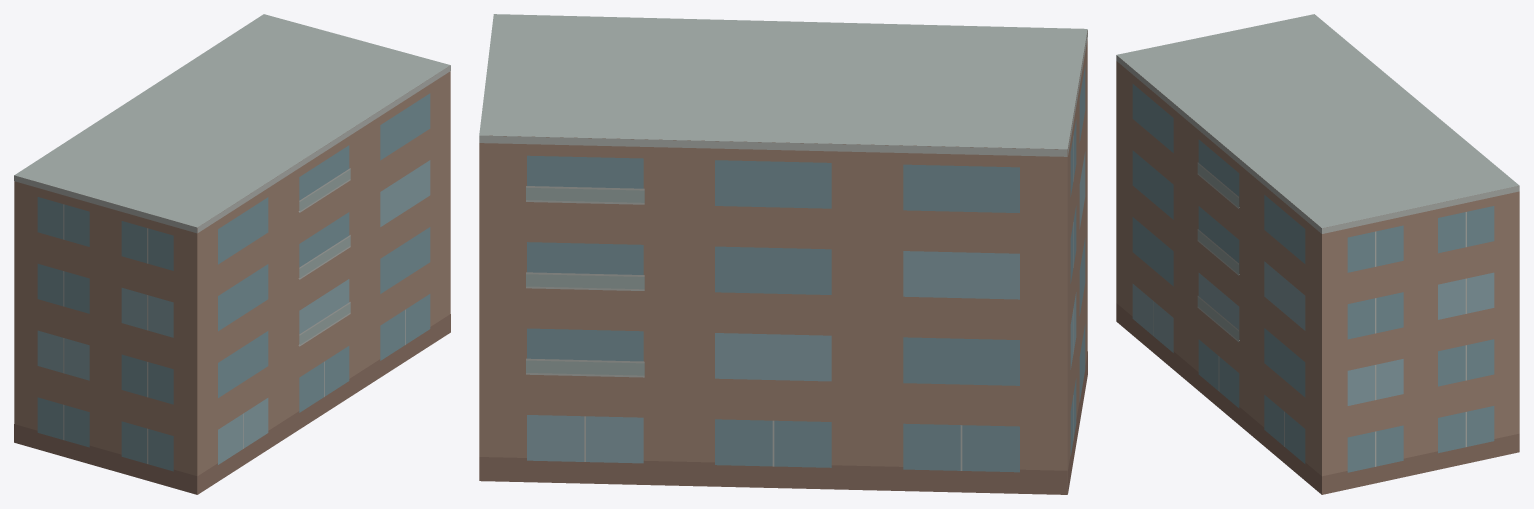
Rendered from survey-upis-32907342.glb.
3 renders of one model, left to right at view 1: azimuth 30°, elevation 25°; view 2: azimuth 150°, elevation 25°; view 3: azimuth 270°, elevation 25°, orthographic. The views are drawn at different scales.
Parts seen in each view (by area): view 1: survey-upis-32907342.tmp; view 2: survey-upis-32907342.tmp; view 3: survey-upis-32907342.tmp.
Boxes of the visible parts, x1=… form: survey-upis-32907342.tmp: x1=14, y1=14, x2=450, y2=494; survey-upis-32907342.tmp: x1=479, y1=14, x2=1087, y2=494; survey-upis-32907342.tmp: x1=1116, y1=14, x2=1519, y2=494.
Bounding box in the file's own units: 19.2 × 11.13 × 15.27.
